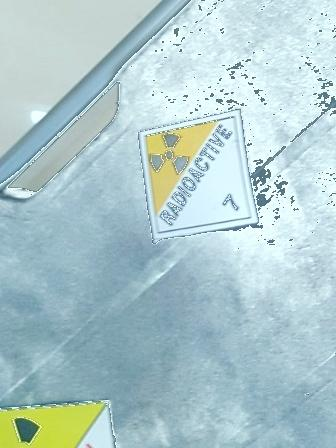radioactive: (140, 107, 261, 242), (1, 397, 119, 448)
